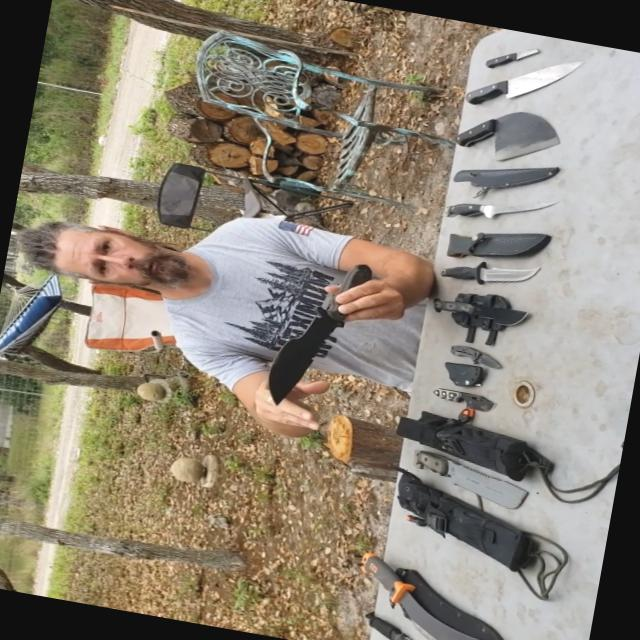knife: (250, 222, 379, 422), (333, 540, 554, 639), (458, 23, 592, 127), (430, 90, 560, 178), (390, 437, 530, 518), (420, 178, 562, 242), (438, 240, 548, 307), (424, 324, 524, 380), (408, 365, 514, 417), (422, 287, 530, 334), (346, 602, 451, 639), (477, 35, 538, 75)
